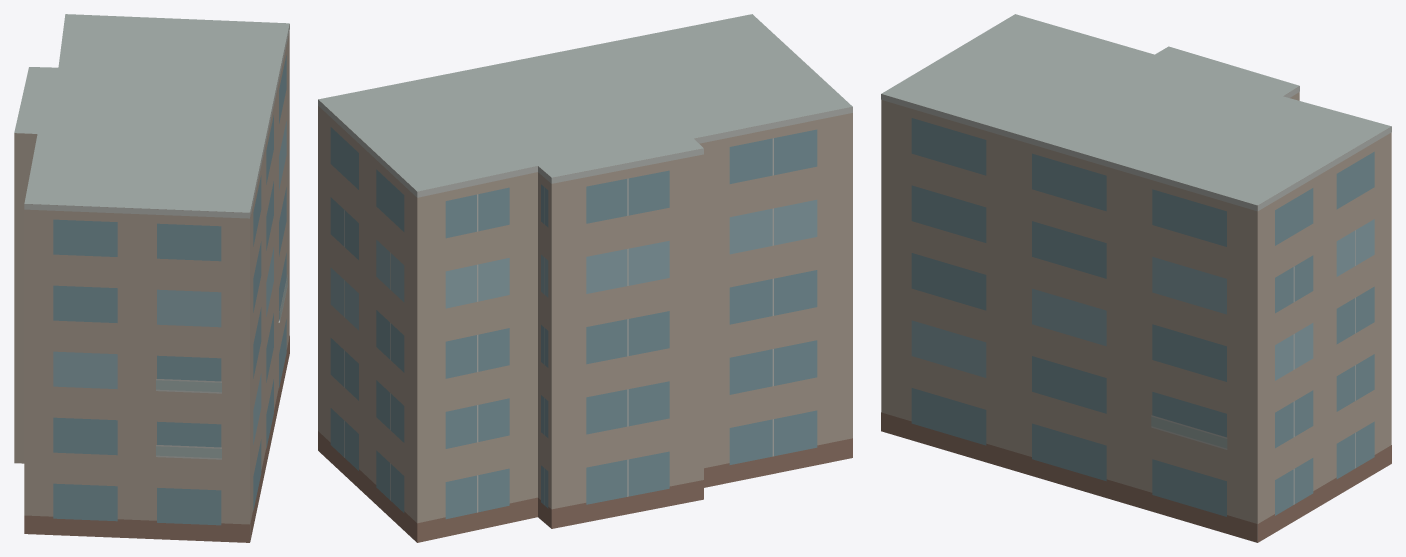
File: survey-upis-32943599.glb
The picture shows the model from 3 angles, left to right: view 1: azimuth 30°, elevation 25°; view 2: azimuth 150°, elevation 25°; view 3: azimuth 270°, elevation 25°; orthographic projection. The views are drawn at different scales.
Parts seen in each view (by area): view 1: survey-upis-32943599.tmp; view 2: survey-upis-32943599.tmp; view 3: survey-upis-32943599.tmp.
Part boxes in pixels (bbox=[...]): survey-upis-32943599.tmp: bbox=[14, 14, 289, 542]; survey-upis-32943599.tmp: bbox=[318, 14, 852, 542]; survey-upis-32943599.tmp: bbox=[881, 14, 1391, 542].
Bounding box in the file's own units: 16.93 × 13.9 × 19.07.
